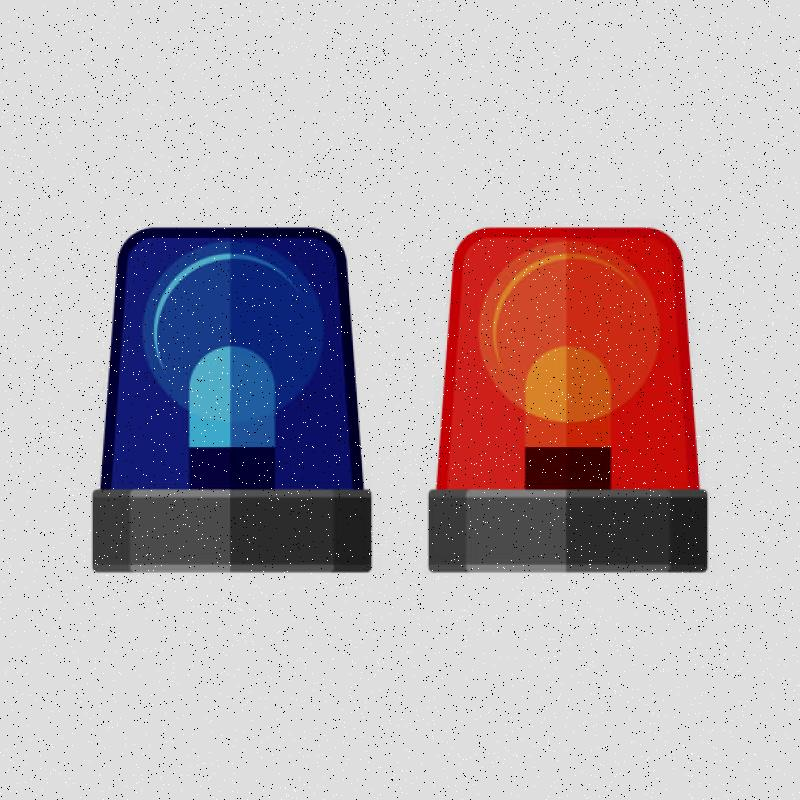AmbulanceSiren: (400, 199, 726, 600), (82, 202, 370, 608)
